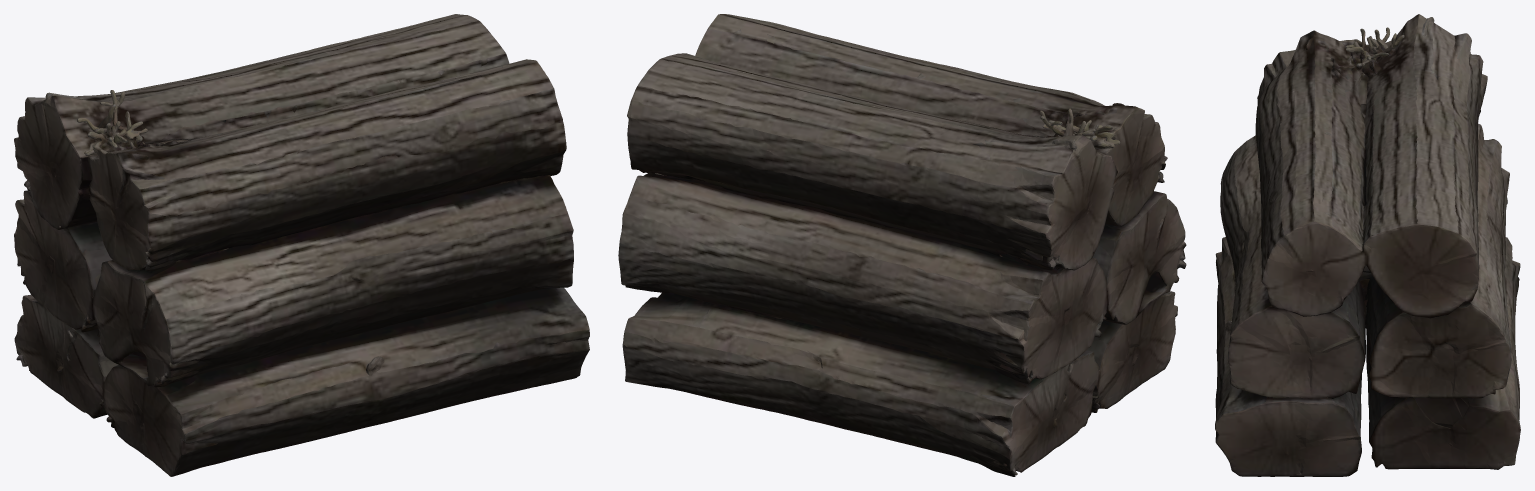
Rendered from char_logs_01.glb.
The picture shows the model from 3 angles, left to right: view 1: azimuth 30°, elevation 25°; view 2: azimuth 150°, elevation 25°; view 3: azimuth 270°, elevation 25°; orthographic projection. The views are drawn at different scales.
Parts seen in each view (by area): view 1: geometry_0; view 2: geometry_0; view 3: geometry_0.
Part boxes in pixels (x1,y1,x2,y2): geometry_0: (14, 14, 589, 476); geometry_0: (618, 14, 1186, 476); geometry_0: (1215, 14, 1520, 476).
Size of the model in its own units: 1 by 0.6982 by 0.6892.
1 material, 1 textured.
